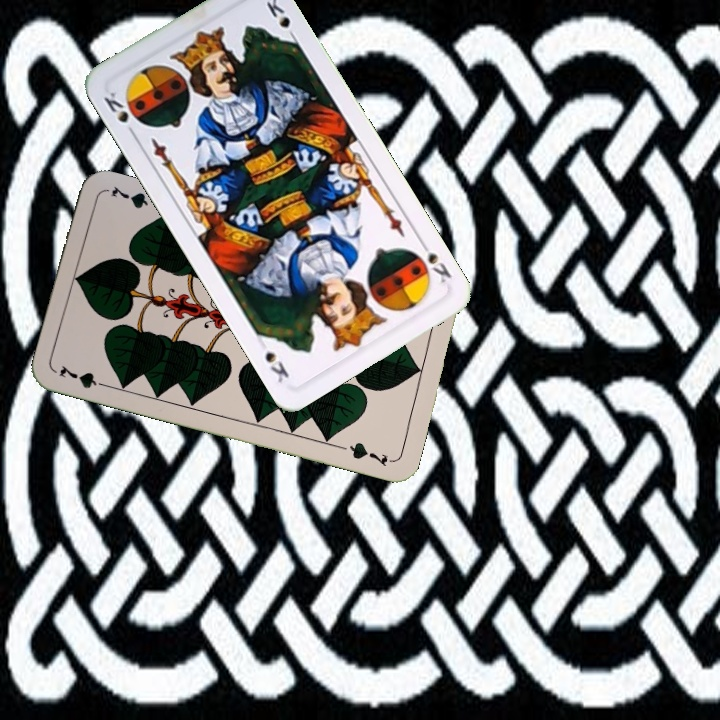G7: (54, 361, 113, 391)
SK: (99, 87, 139, 140), (415, 235, 454, 286)
